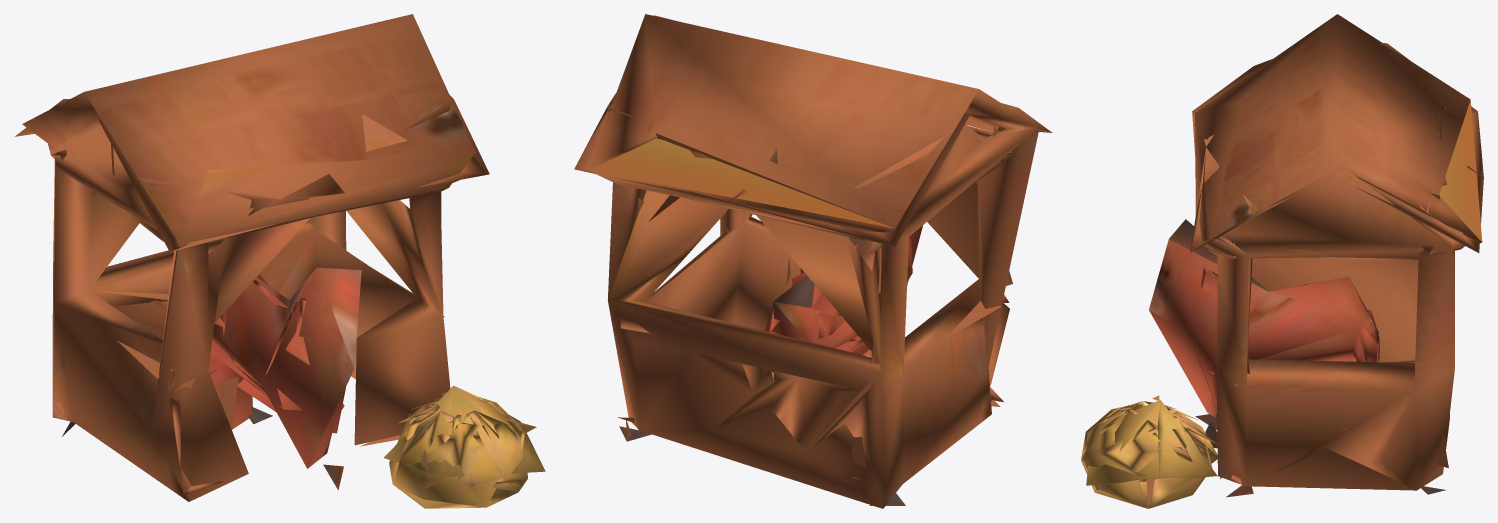
The model's file is lg-stable.glb.
3 renders of one model, left to right at view 1: azimuth 30°, elevation 25°; view 2: azimuth 150°, elevation 25°; view 3: azimuth 270°, elevation 25°, orthographic. The views are drawn at different scales.
Parts seen in each view (by area): view 1: geometry_0; view 2: geometry_0; view 3: geometry_0.
Part boxes in pixels (x1,y1,x2,y2): geometry_0: [14, 14, 545, 508]; geometry_0: [574, 14, 1052, 508]; geometry_0: [1081, 14, 1483, 508].
Size of the model in its own units: 0.9006 by 0.9852 by 1.
1 material, 1 textured.
